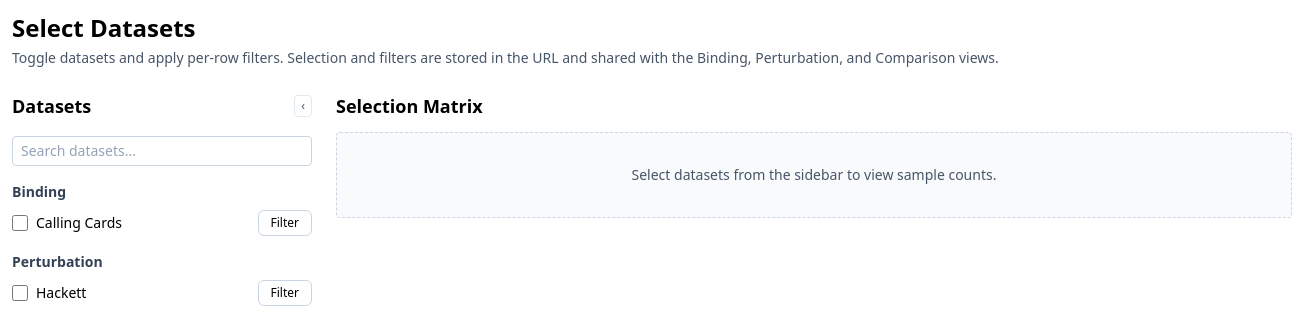
Scenario: Select route › sidebar search filters the dataset list (audit row 24) and shows empty state (row 34)
This screenshot has width=1292, height=323.
Check: the text "Calling Cards" is shown, box [36,213,122,233]
Check: the text "Hackett" is shown, box [36,283,86,303]
Type "hack" into the search field with test id "sidebar-search" at (162, 151), box [12,136,312,166]
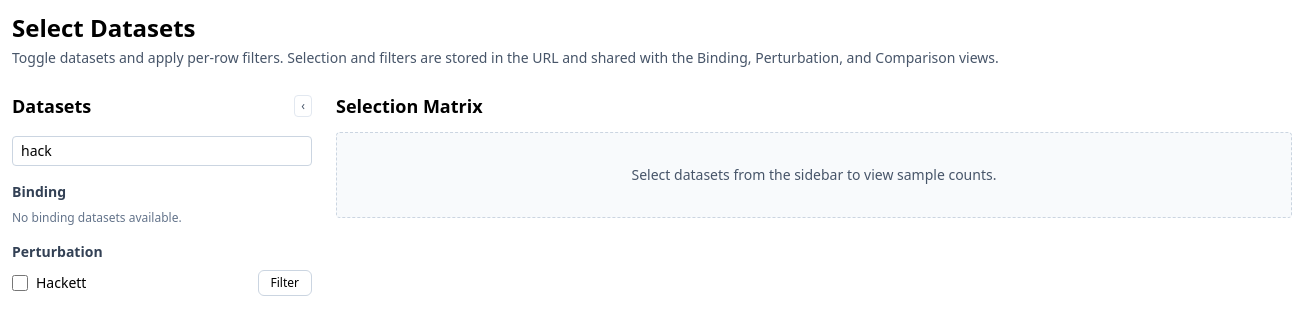
Check: the text "Hackett" is shown, box [36,273,86,293]
Check: the text "Calling Cards" is gone
Replace the text in the search field with test id "sidebar-search" with "nothingmatches" at (162, 151), box [12,136,312,166]
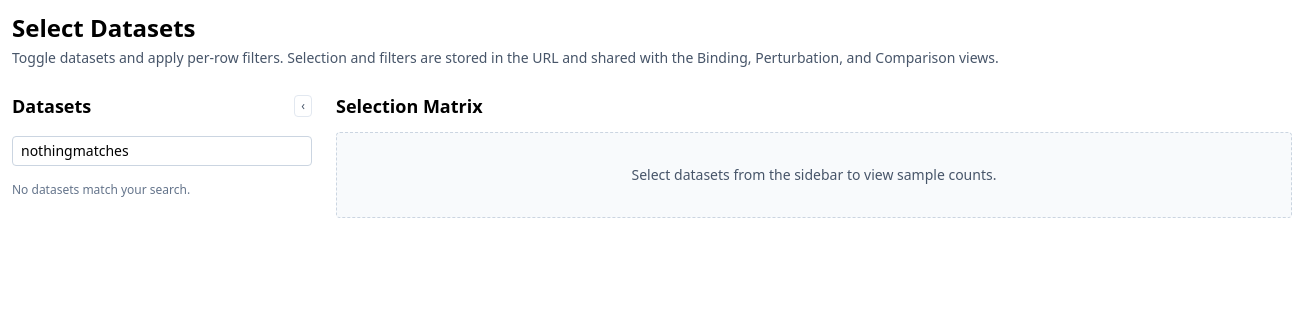
Check: the text "No datasets match your search." is shown, box [12,181,190,198]
